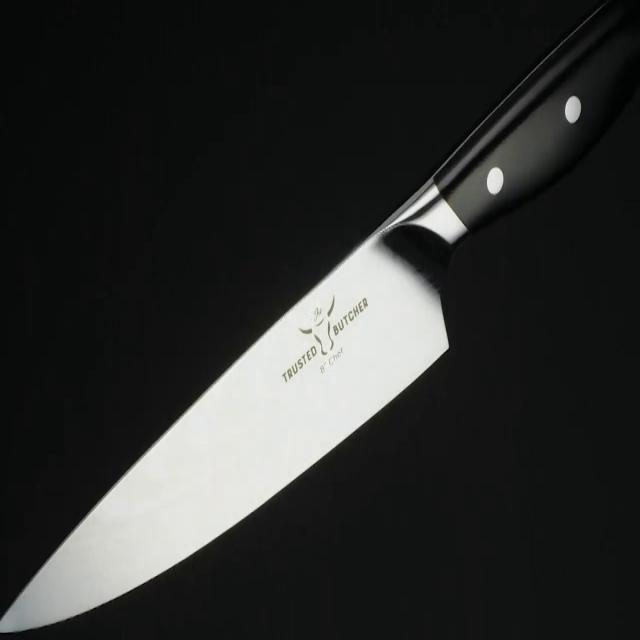Knife: (0, 223, 450, 634)
